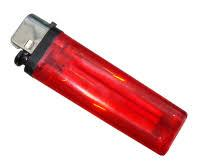lighter: (9, 13, 190, 154)
